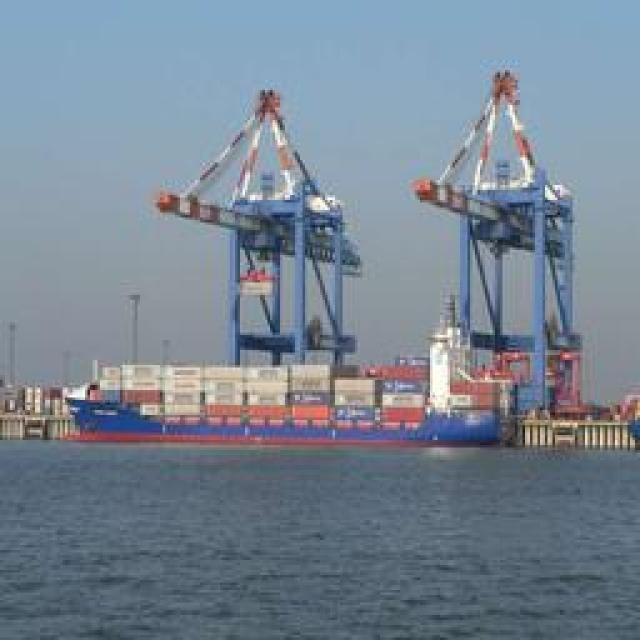CIV_Ship: (64, 360, 512, 442)
